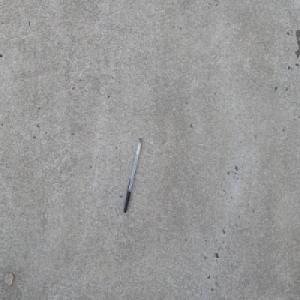Pen: (122, 137, 142, 214)
